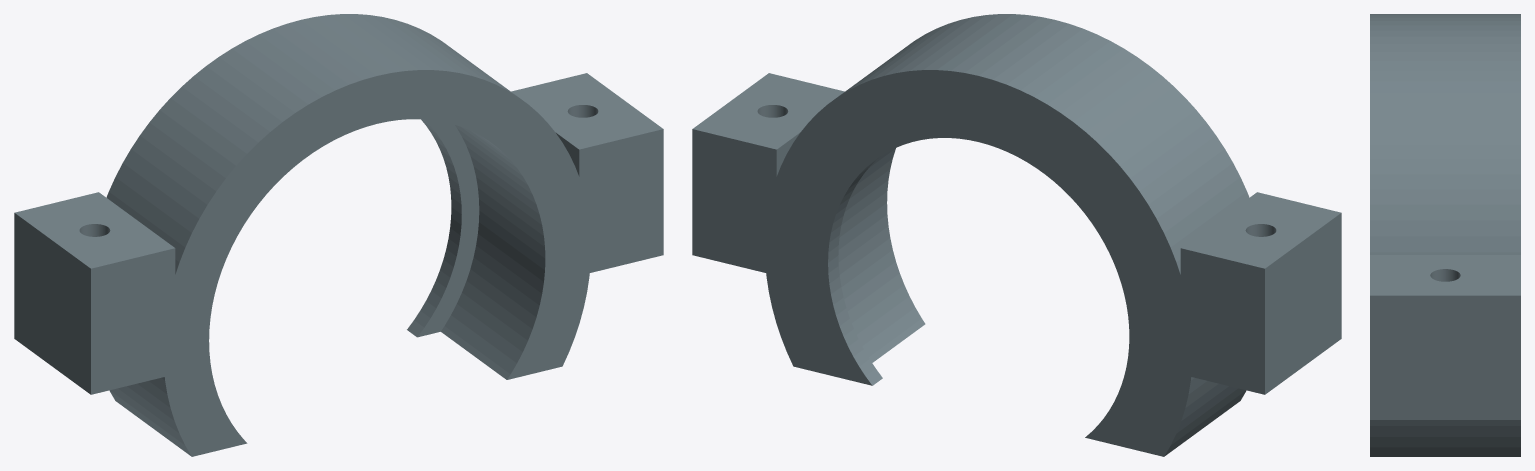
File: est_collar_cuello.glb
3 views of the same model, side by side, from view 1: azimuth 30°, elevation 25°; view 2: azimuth 150°, elevation 25°; view 3: azimuth 270°, elevation 25° (orthographic).
Parts seen in each view (by area): view 1: world; view 2: world; view 3: world.
Boxes of the visible parts, x1,y1,x2,y2 form: world: [14, 14, 663, 456]; world: [692, 14, 1341, 456]; world: [1370, 14, 1520, 456].
Bounding box in the file's own units: 95 × 53.25 × 22.
